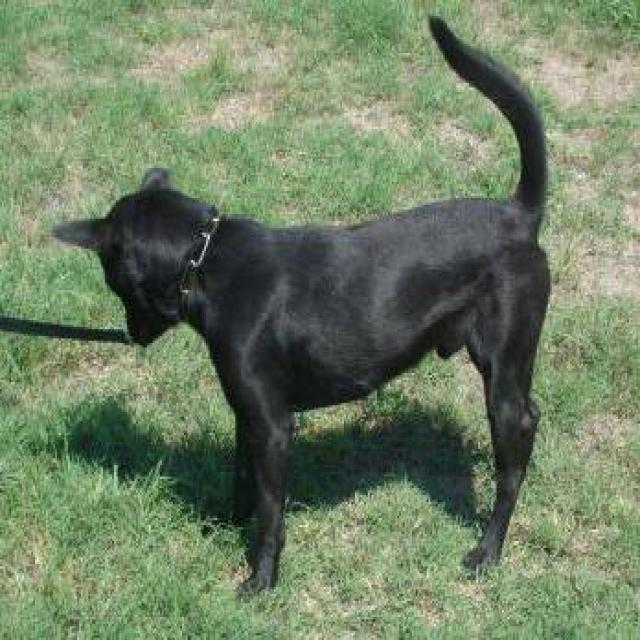dog: (49, 12, 552, 596)
